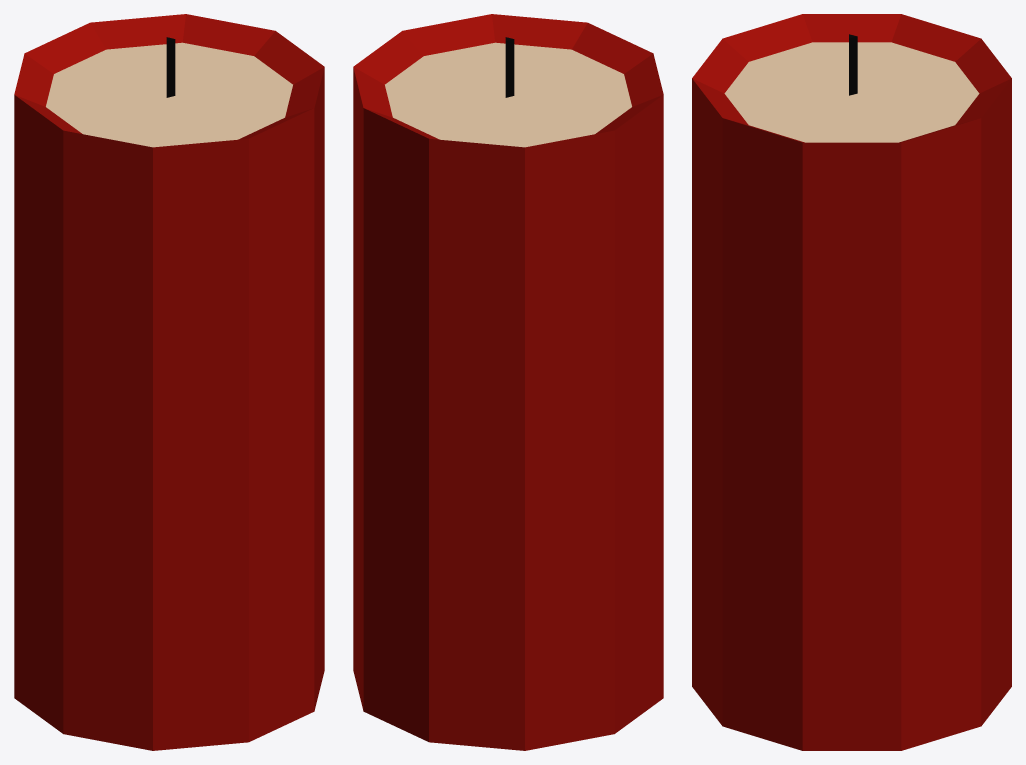
Rendered from Candle_002.fbx.
3 renders of one model, left to right at view 1: azimuth 30°, elevation 25°; view 2: azimuth 150°, elevation 25°; view 3: azimuth 270°, elevation 25°, orthographic.
Parts seen in each view (by area): view 1: candle_002; view 2: candle_002; view 3: candle_002.
Part boxes in pixels (x1,y1,x2,y2): candle_002: (14, 14, 324, 750); candle_002: (353, 14, 663, 750); candle_002: (692, 14, 1011, 750).
Size of the model in its own units: 5.71 by 13.46 by 6.
